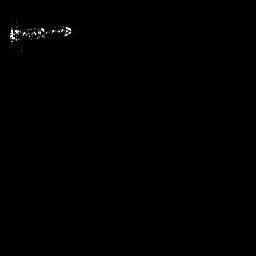ship: (5, 22, 76, 52)
